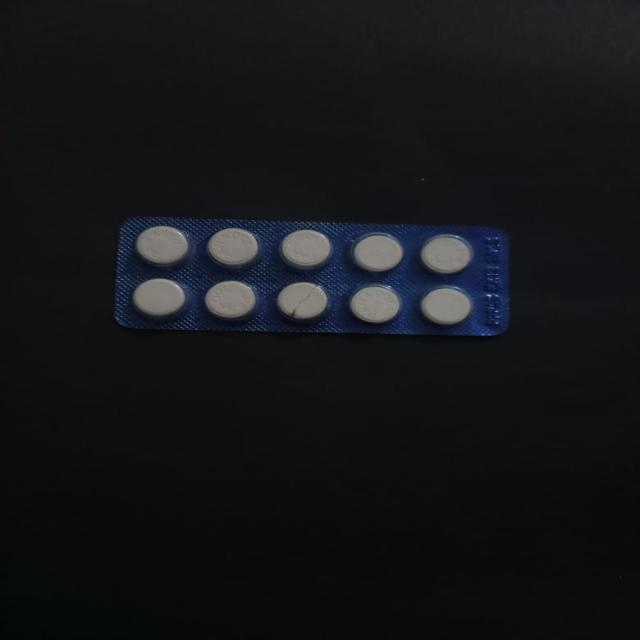defect: (273, 280, 333, 324)
